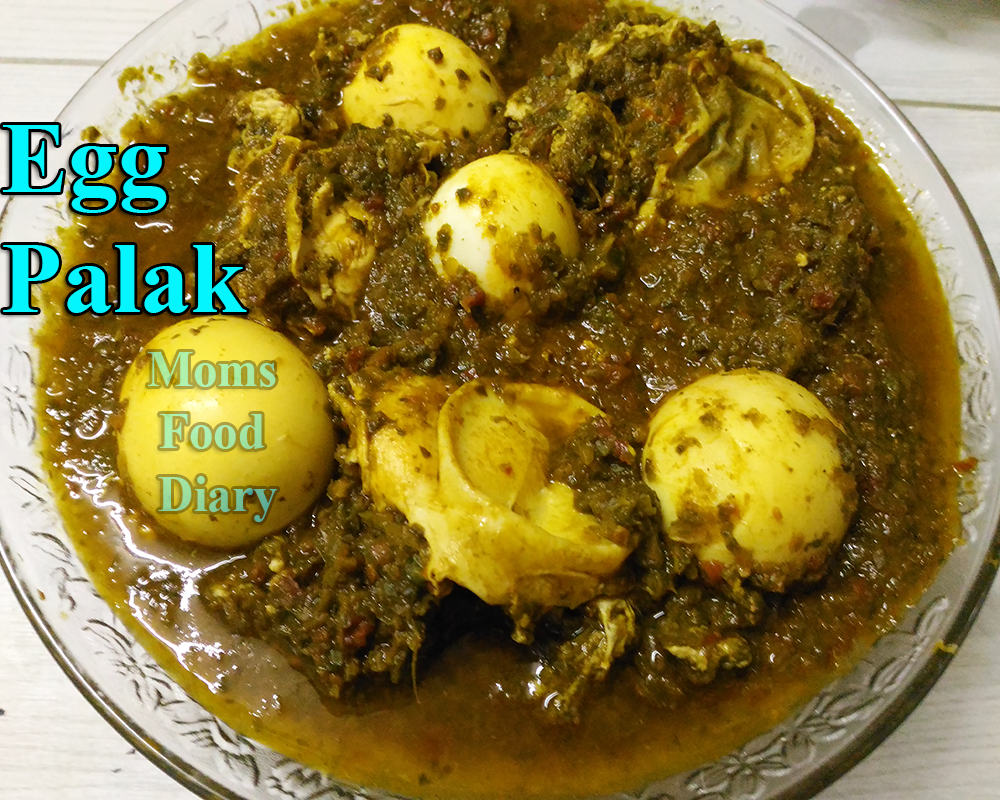curry: (77, 10, 905, 762)
egg: (111, 310, 354, 558), (368, 357, 611, 605), (618, 357, 861, 605), (397, 129, 604, 319), (314, 1, 521, 190)
